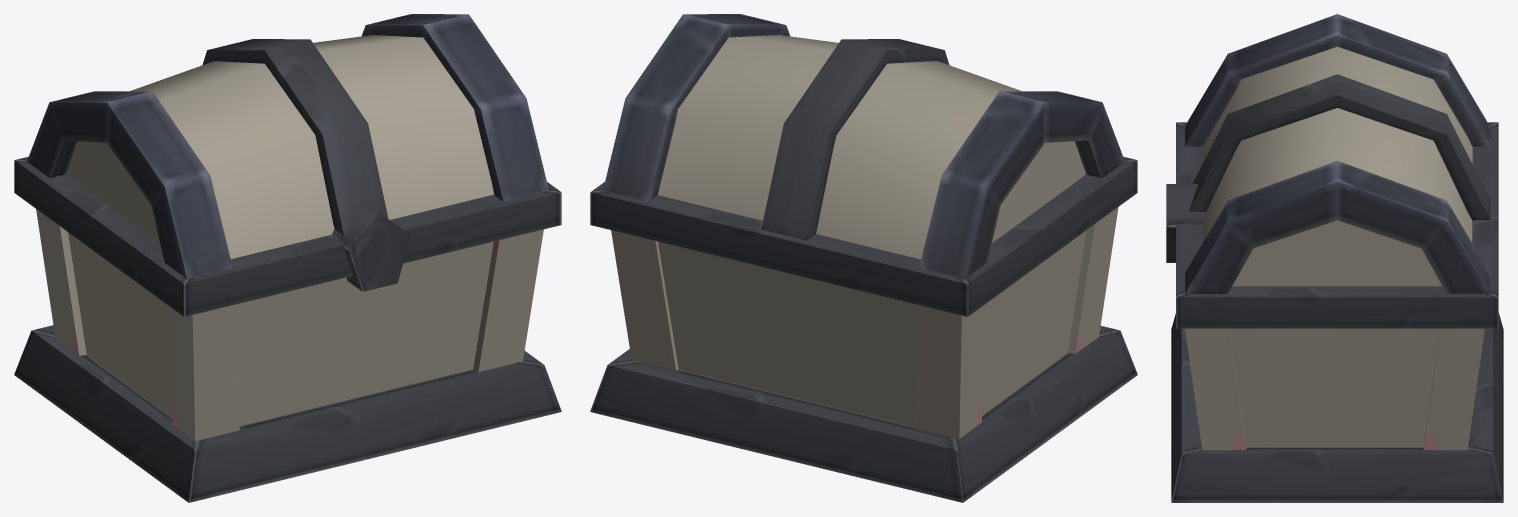
The model's file is ice_prop_9.FBX.
The picture shows the model from 3 angles, left to right: view 1: azimuth 30°, elevation 25°; view 2: azimuth 150°, elevation 25°; view 3: azimuth 270°, elevation 25°; orthographic projection. The views are drawn at different scales.
Visible parts, largest first — view 1: Object045; view 2: Object045; view 3: Object045.
Boxes of the visible parts, x1,y1,x2,y2 form: Object045: (14, 14, 561, 502); Object045: (590, 14, 1137, 502); Object045: (1166, 14, 1503, 502).
Bounding box in the file's own units: 21.45 × 17.47 × 18.94.
